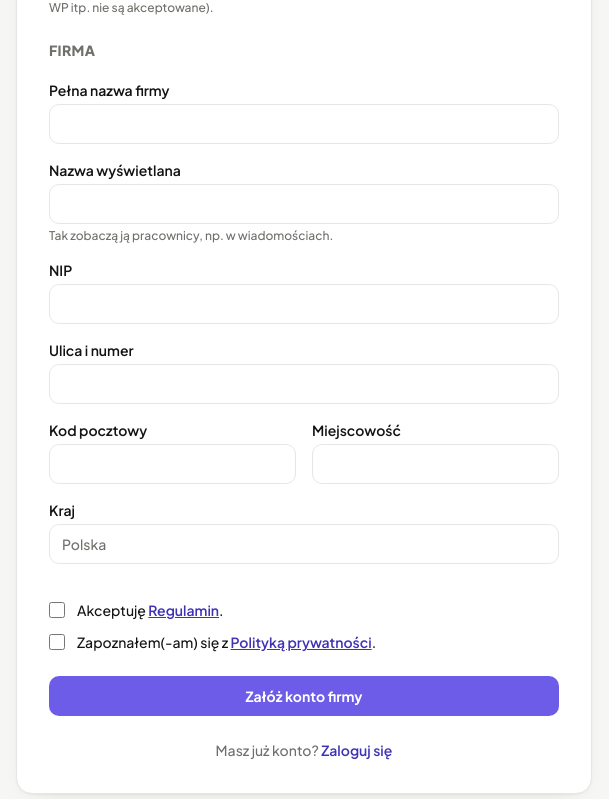
Scenario: RegisterPage › blokuje wysyłkę przy pustym formularzu i nie woła API
(page scrolled)
Click the button "Załóż konto firmy": click(304, 696) [49,676,559,716]
(page scrolled)
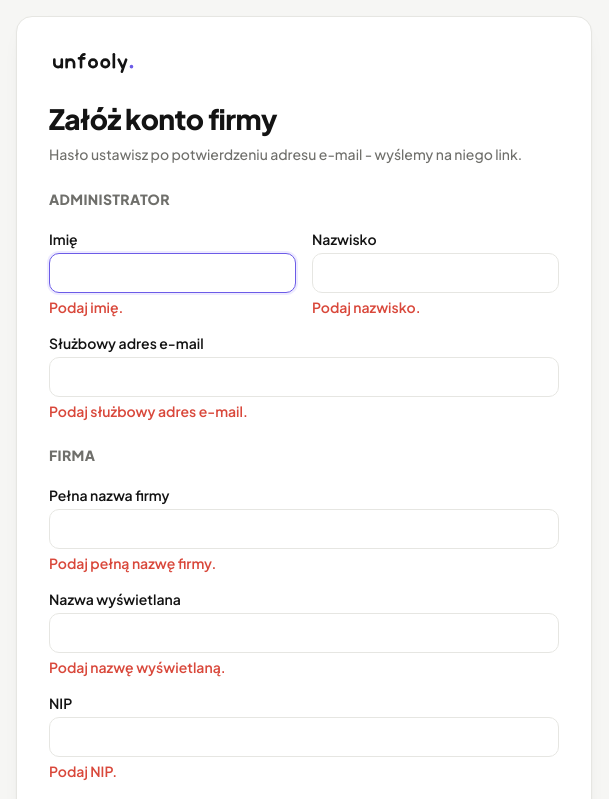
Expected: the text "Podaj imię." is shown, [49,298,123,316]
Expected: the text "Podaj NIP." is shown, [49,762,117,780]
